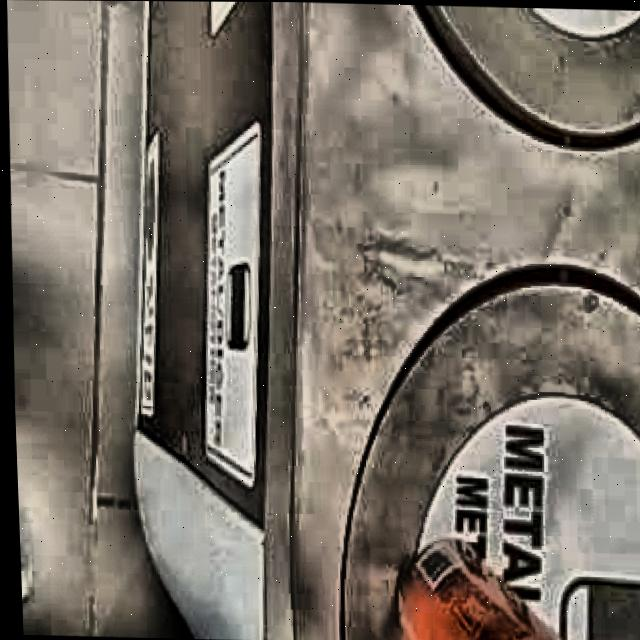metal: (392, 538, 549, 640)
